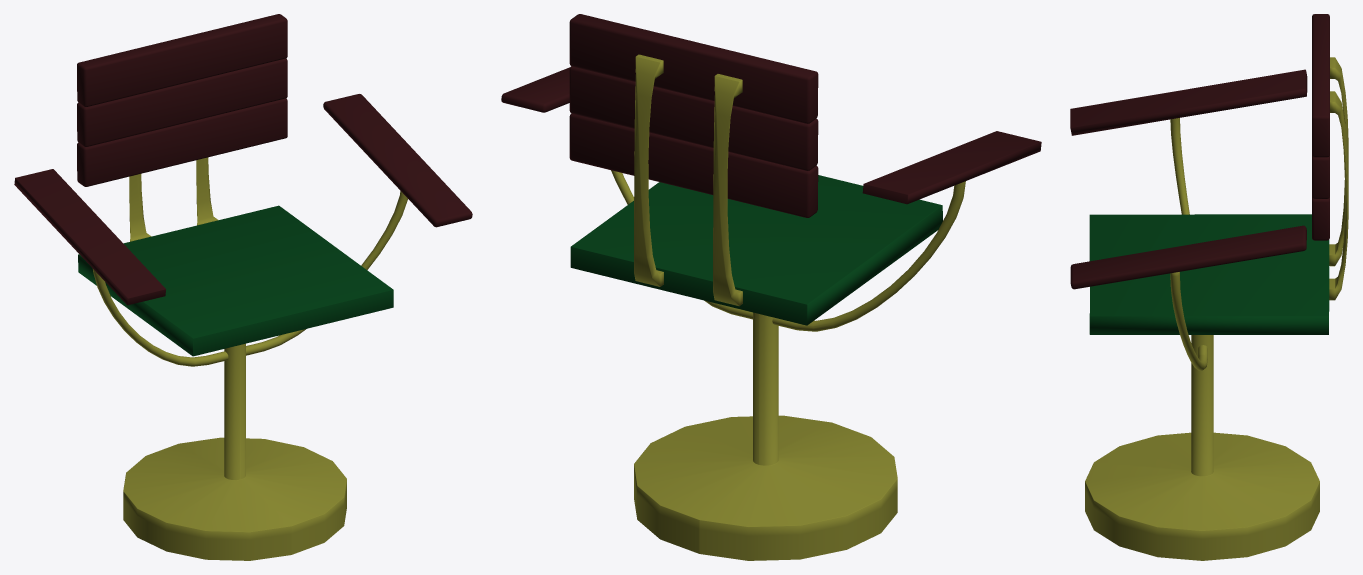
The model's file is chairamk1.fbx.
3 renders of one model, left to right at view 1: azimuth 30°, elevation 25°; view 2: azimuth 150°, elevation 25°; view 3: azimuth 270°, elevation 25°, orthographic. The views are drawn at different scales.
Visible parts, largest first — view 1: Cube.002, Cube.005, Cube.001; view 2: Cube.002, Cube.005, Cube.001; view 3: Cube.002, Cube.001, Cube.005.
Boxes of the visible parts, bbox=[...] form: Cube.002: bbox=[14, 157, 407, 560]; Cube.005: bbox=[77, 14, 287, 186]; Cube.001: bbox=[323, 94, 472, 227]; Cube.002: bbox=[570, 54, 1041, 560]; Cube.005: bbox=[569, 14, 818, 217]; Cube.001: bbox=[501, 67, 570, 112]; Cube.002: bbox=[1070, 57, 1348, 560]; Cube.001: bbox=[1070, 225, 1306, 289]; Cube.005: bbox=[1312, 14, 1329, 240].
Bounding box in the file's own units: 137 × 163 × 91.9.
